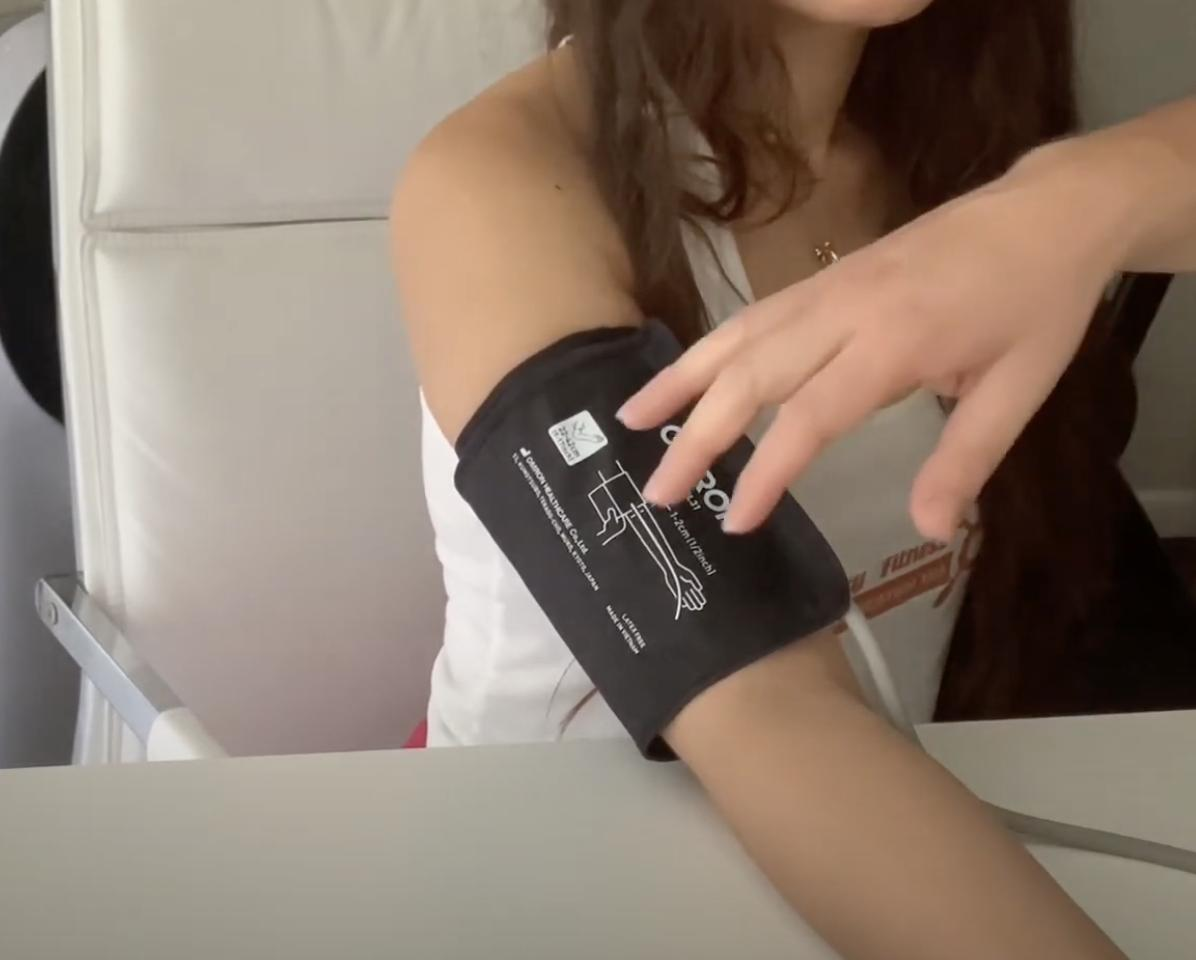cuff: (452, 333, 842, 751)
